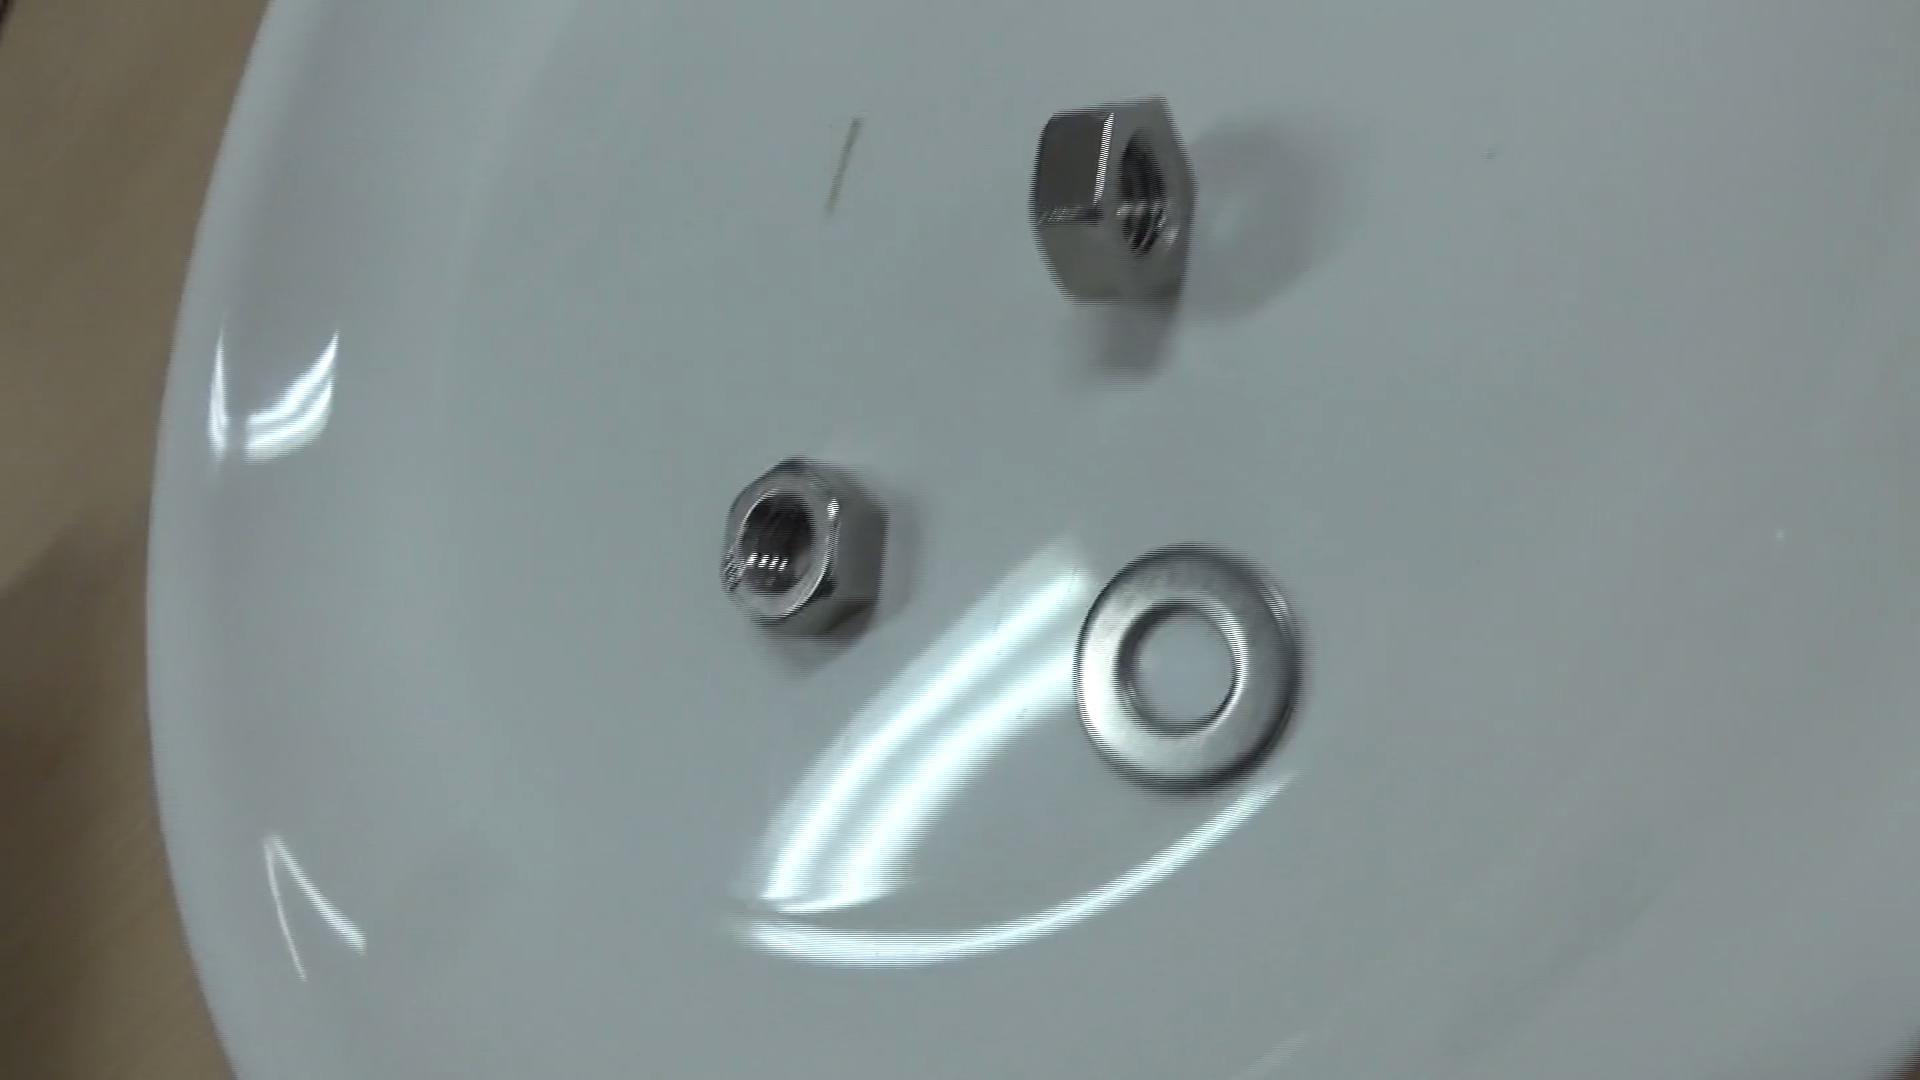nut: (1002, 82, 1229, 322), (698, 439, 909, 667)
washer: (1056, 527, 1327, 810)
